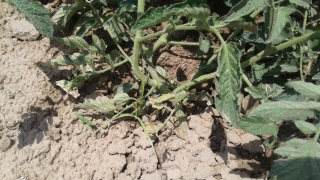tomato plant: (218, 4, 320, 136)
